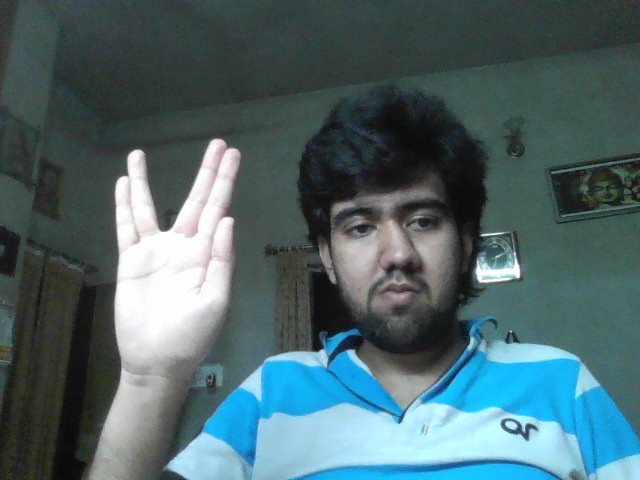LiveLong: (113, 138, 242, 371)
